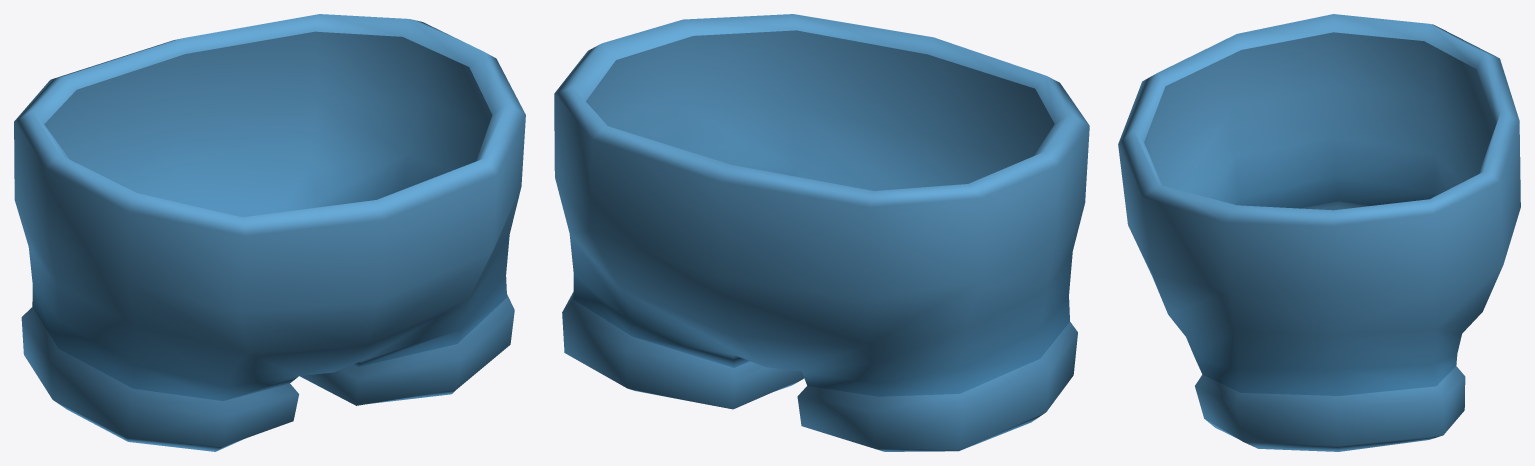
The model's file is Bottom_01_Fit.fbx.
The picture shows the model from 3 angles, left to right: view 1: azimuth 30°, elevation 25°; view 2: azimuth 150°, elevation 25°; view 3: azimuth 270°, elevation 25°; orthographic projection. The views are drawn at different scales.
Visible parts, largest first — view 1: Bottom_01_Fiit; view 2: Bottom_01_Fiit; view 3: Bottom_01_Fiit.
Part boxes in pixels (left/top/right/bottom): Bottom_01_Fiit: left=14, top=14, right=525, bottom=451; Bottom_01_Fiit: left=554, top=14, right=1089, bottom=451; Bottom_01_Fiit: left=1118, top=14, right=1520, bottom=451.
Size of the model in its own units: 38.42 by 22.89 by 31.34.
